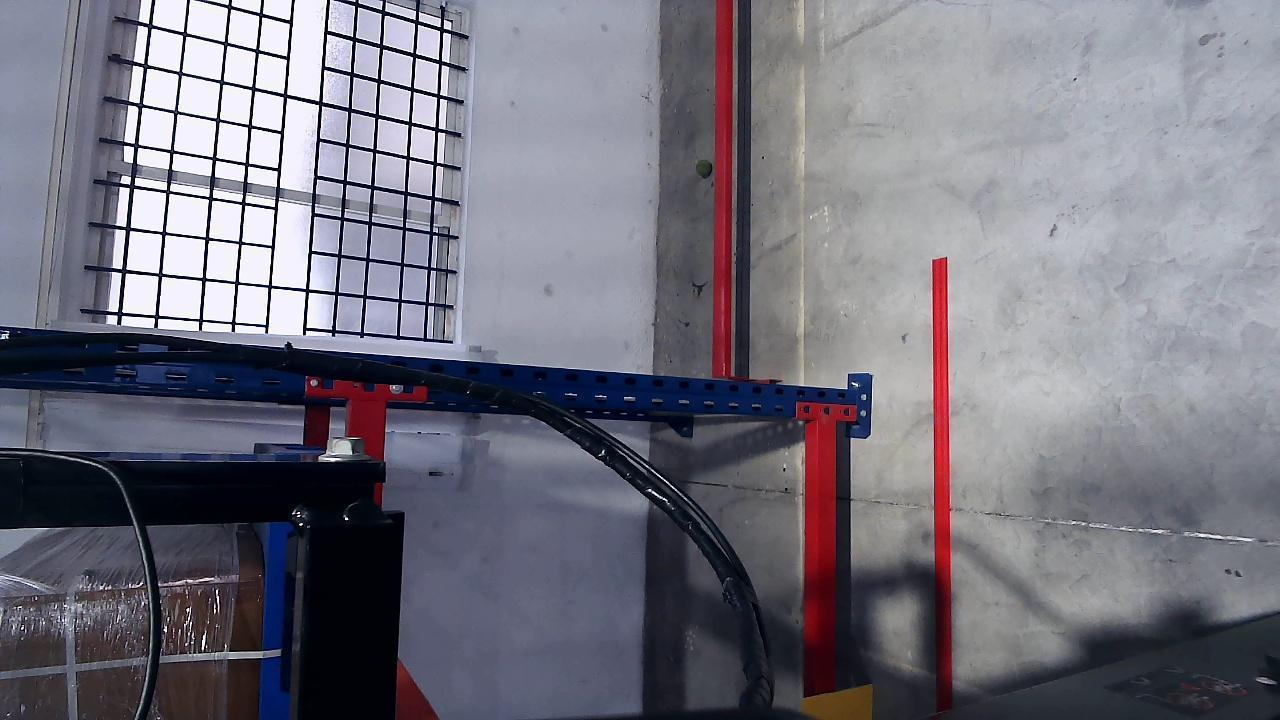red_line: (930, 259, 955, 707)
